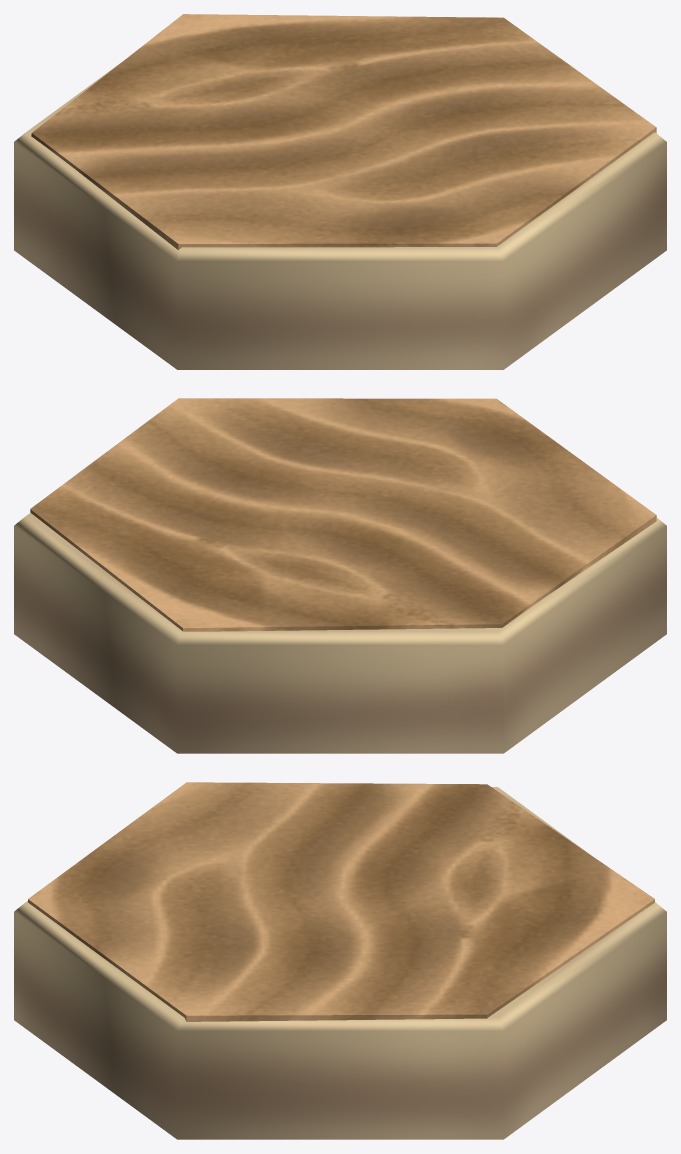
File: sand.fbx
3 views of the same model, one above another, from view 1: azimuth 30°, elevation 25°; view 2: azimuth 150°, elevation 25°; view 3: azimuth 270°, elevation 25° (orthographic).
Visible parts, largest first — view 1: sand; view 2: sand; view 3: sand.
Boxes of the visible parts, left/top/right/bottom form: sand: left=14, top=14, right=666, bottom=369; sand: left=14, top=398, right=666, bottom=753; sand: left=14, top=782, right=666, bottom=1139.
Size of the model in its own units: 83.34 by 19.7 by 96.24.
Materials: 2 (2 with a texture image).
